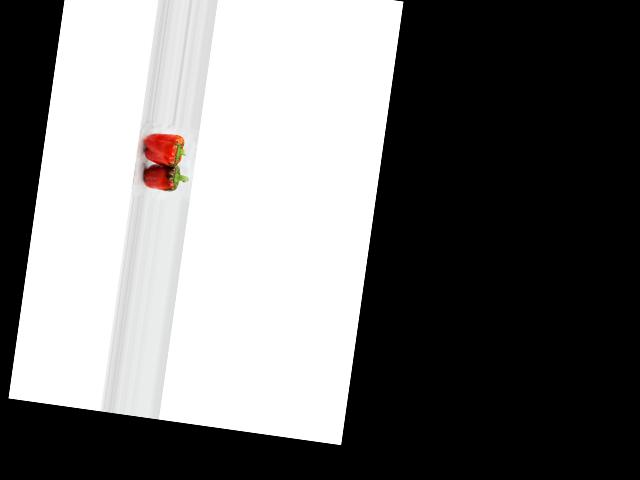bell_pepper: (141, 125, 191, 167)
